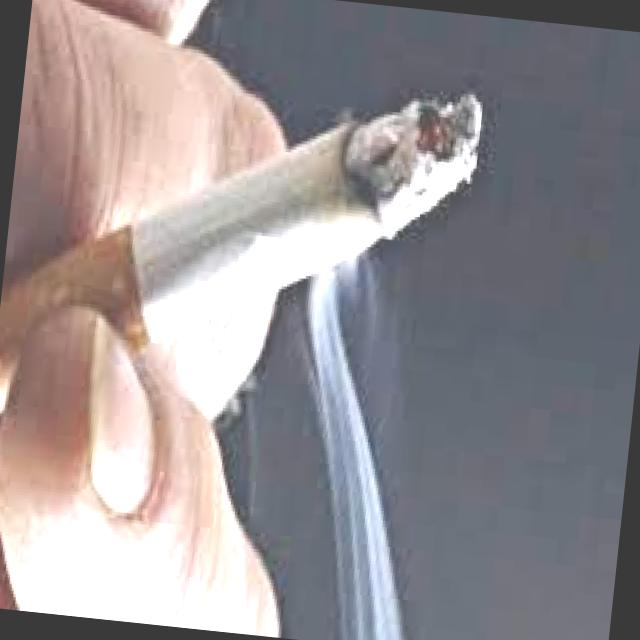cigarette: (0, 35, 487, 476)
